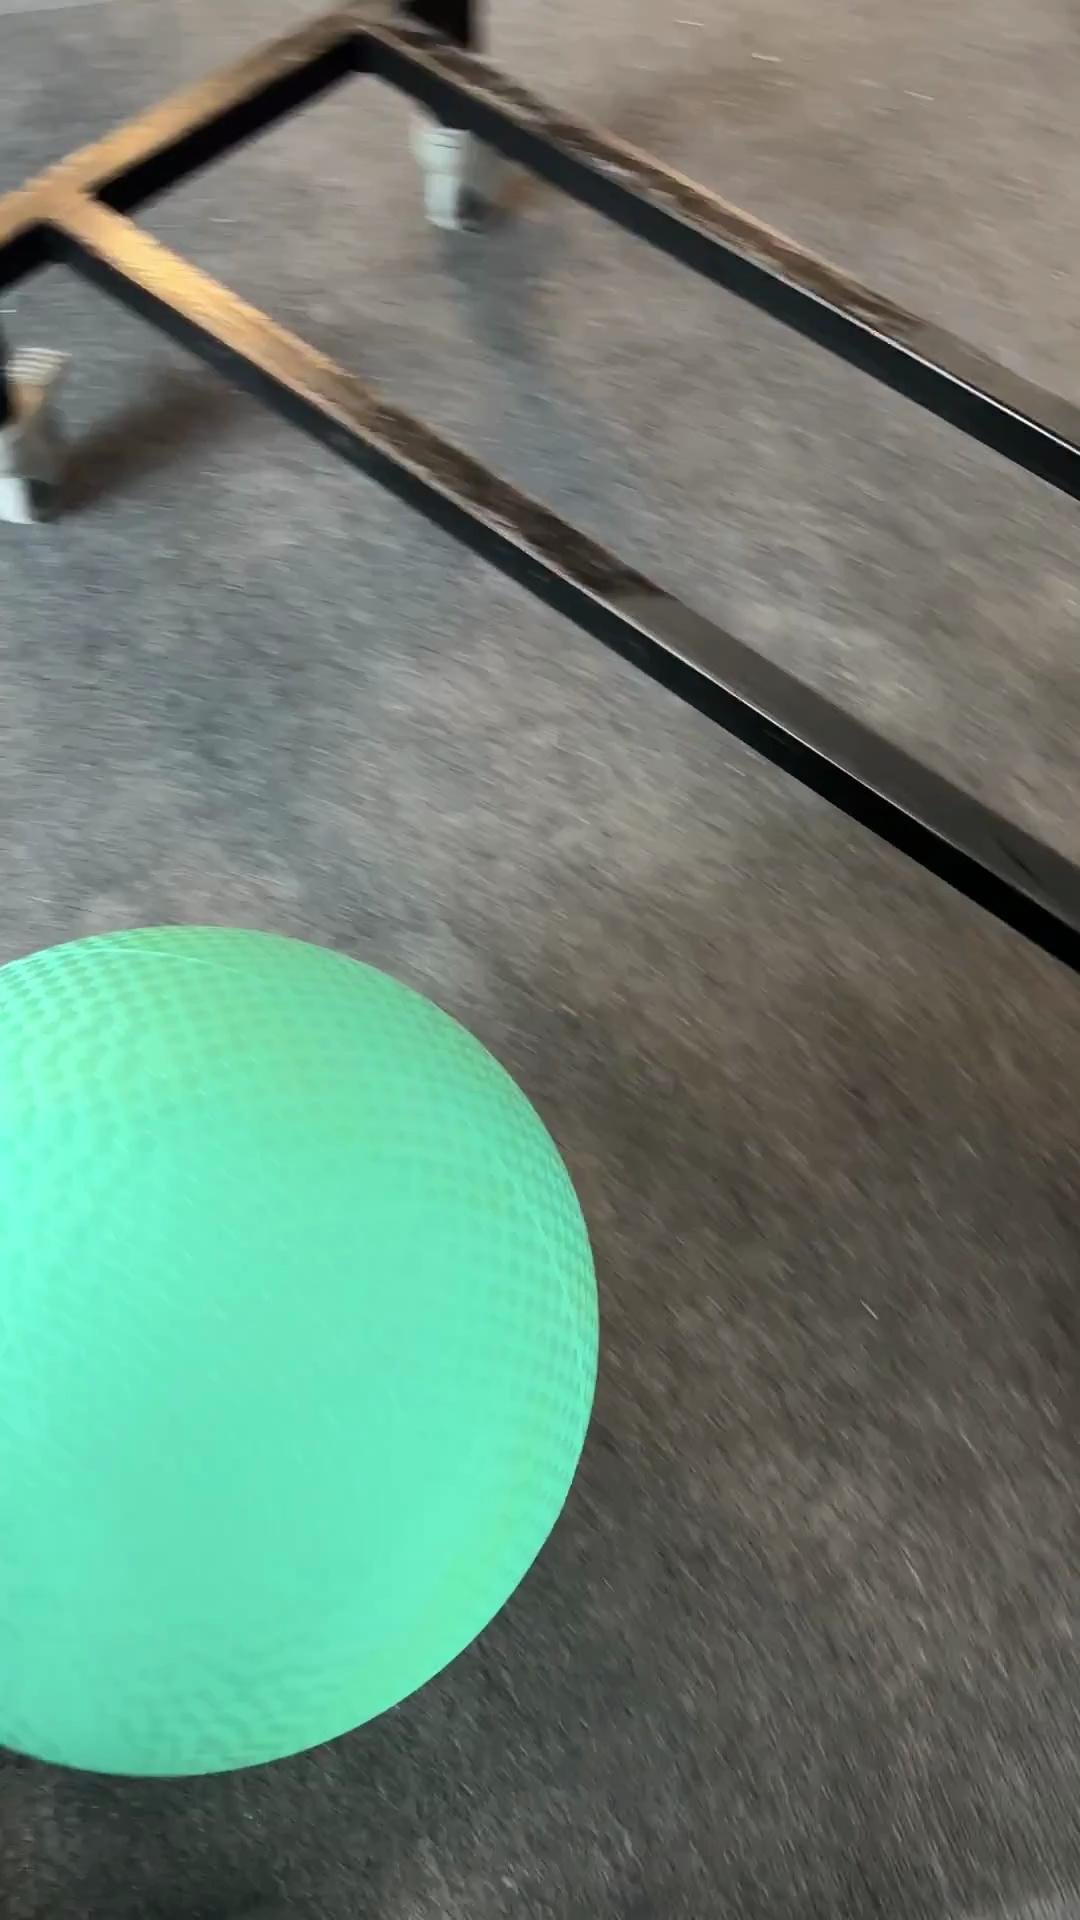ALGAE: (1, 920, 601, 1779)
